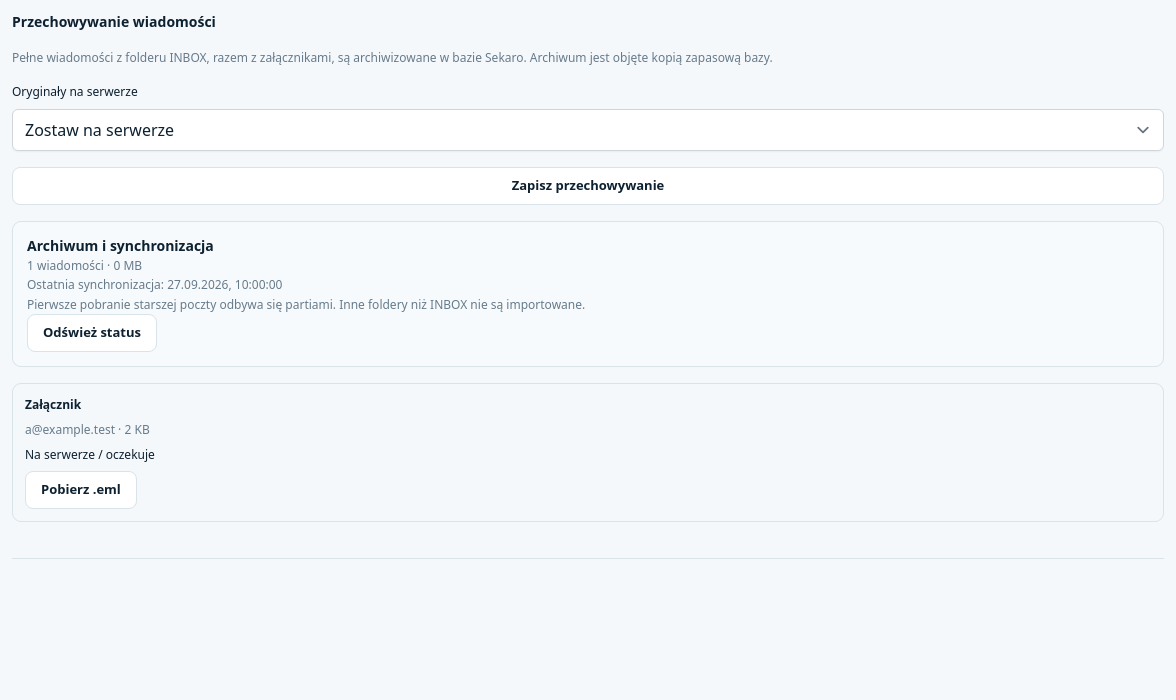
Test: keeps the policy draft on failure and blocks duplicate saves
The width and height of the screenshot is (1176, 700).
Select "Usuń po zarchiwizowaniu" in the dropdown: {"x": 588, "y": 130} [12, 109, 1164, 151]
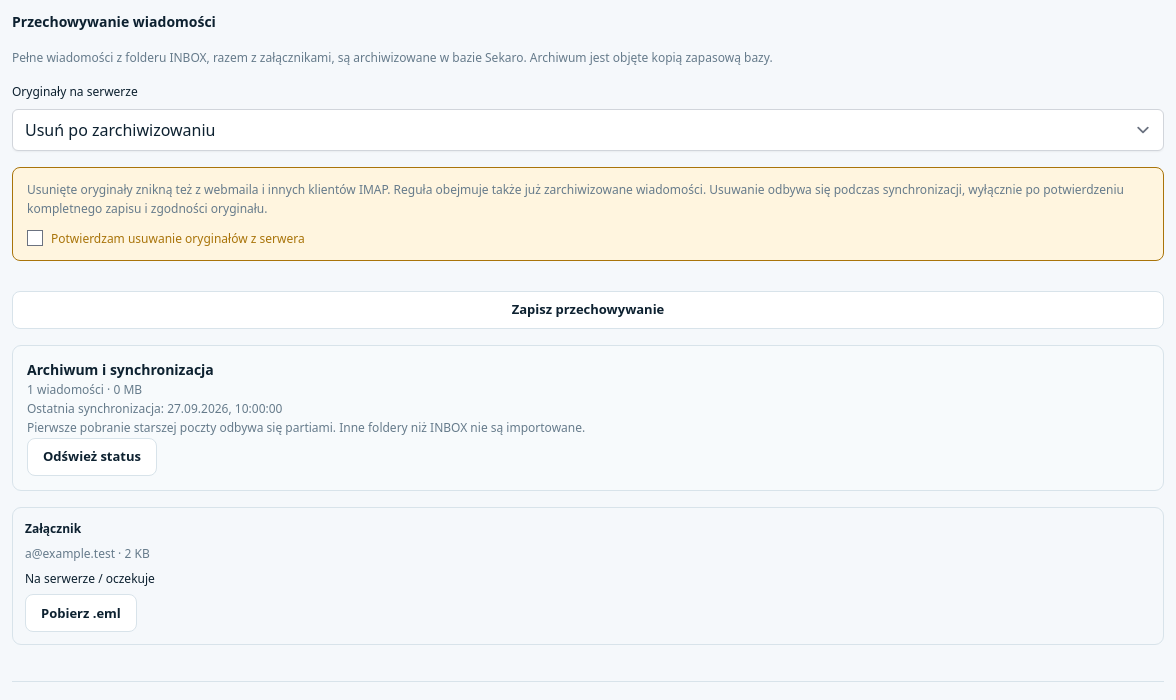
Click the checkbox: {"x": 35, "y": 238} [27, 230, 43, 246]
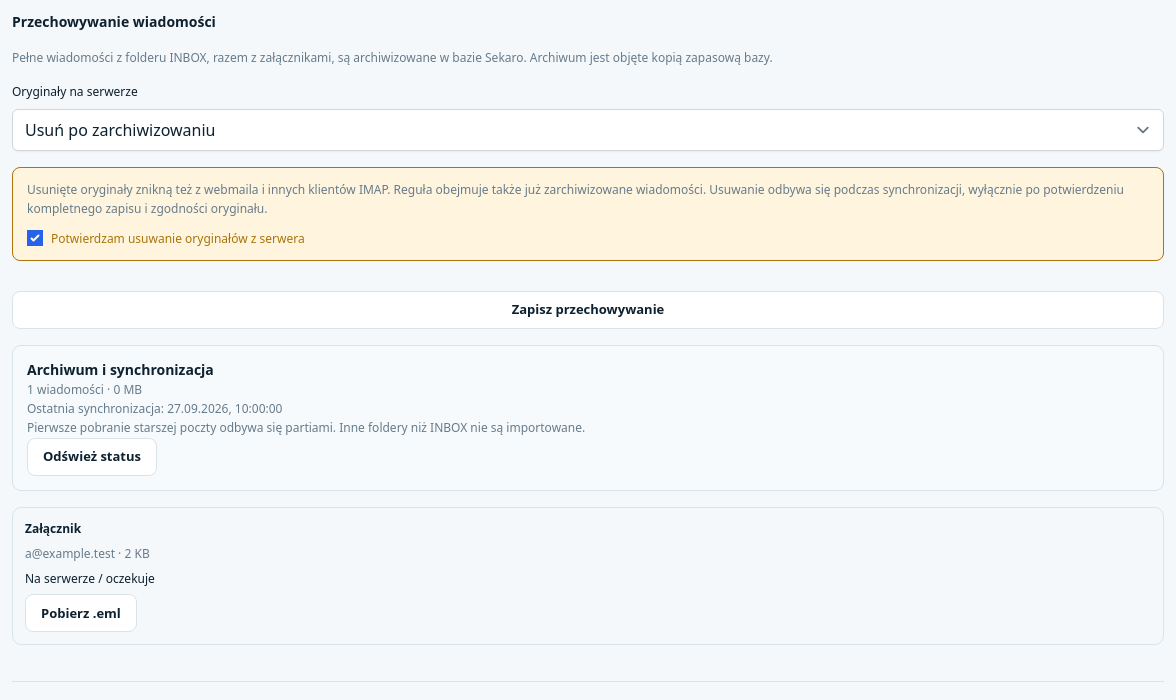
Click the button "Zapisz przechowywanie": {"x": 588, "y": 310} [12, 291, 1164, 329]
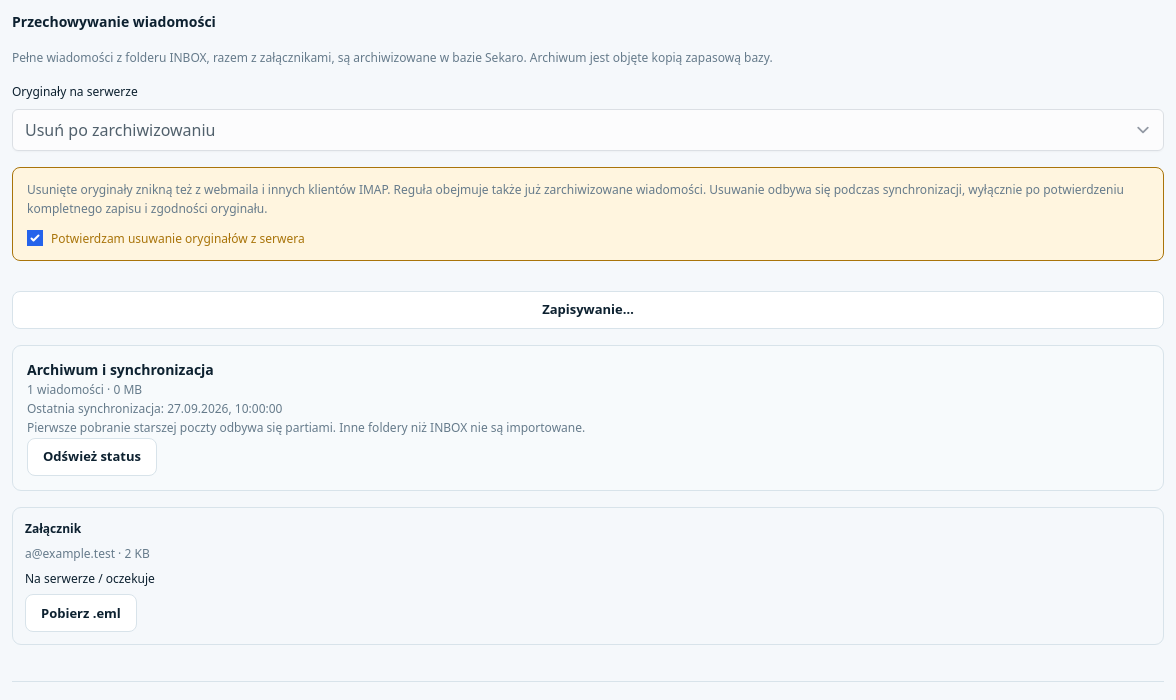
Click the button named "Zapisz przechowywanie": {"x": 588, "y": 310} [12, 291, 1164, 329]
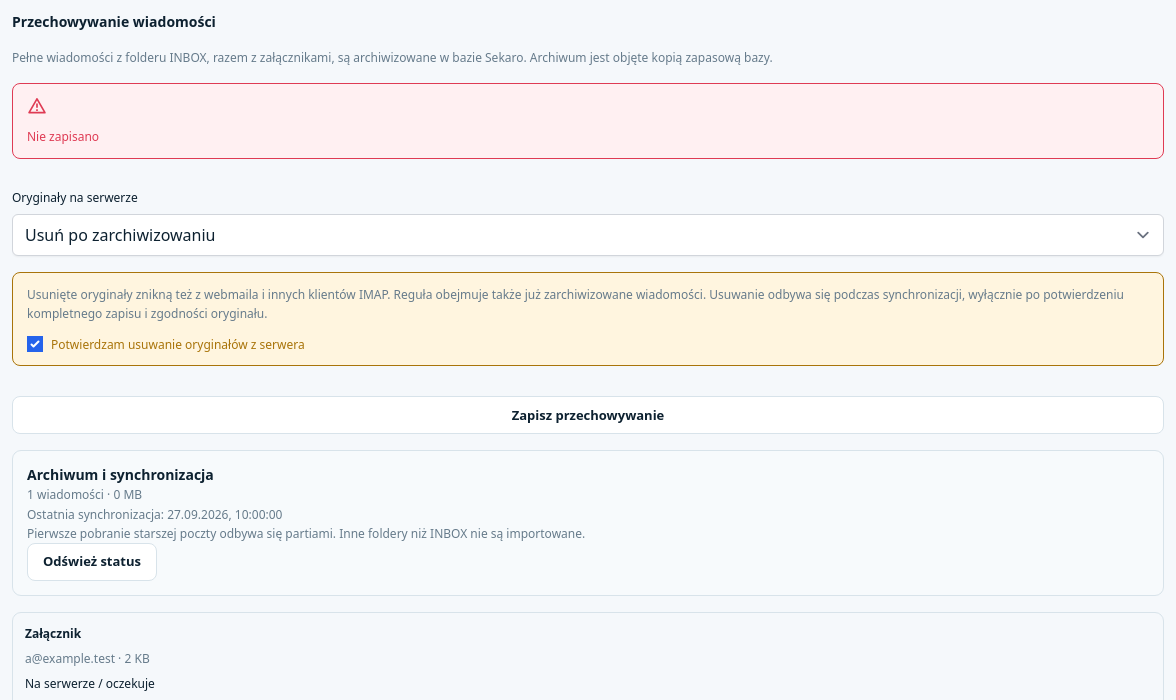
Expected: the button "Odśwież status" is disabled, [27, 543, 157, 581]
Expected: the message "Nie zapisano" is shown, [12, 84, 1164, 159]
